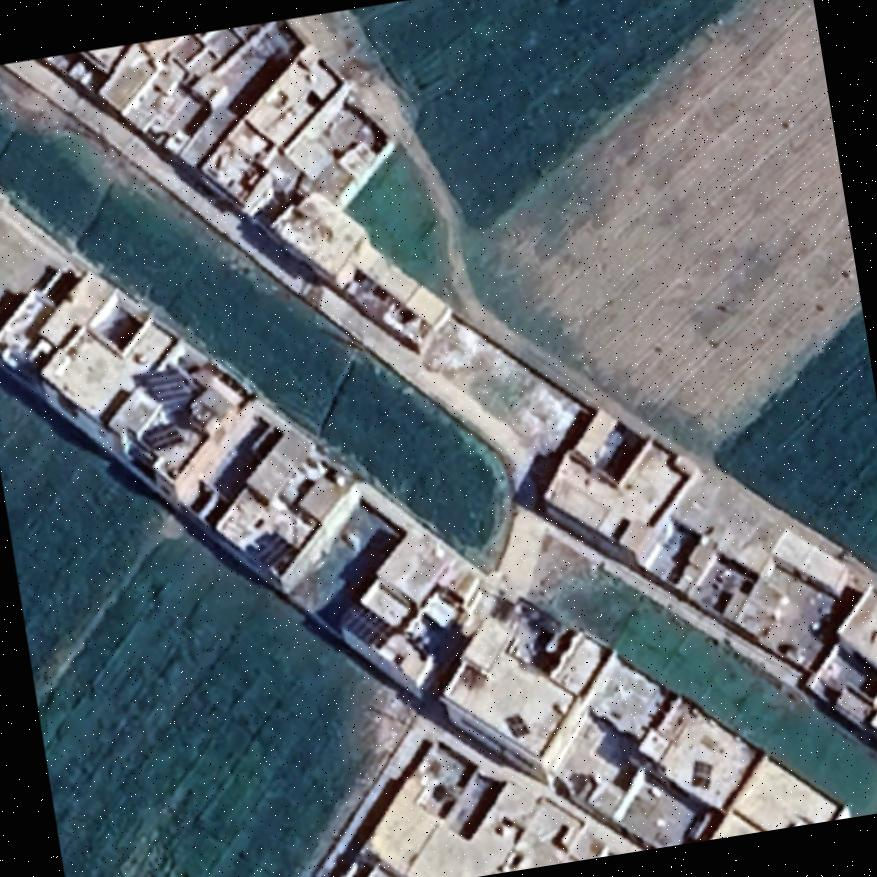Solarpanel: (337, 595, 391, 656), (243, 521, 296, 578), (141, 364, 190, 406), (138, 418, 184, 455)
